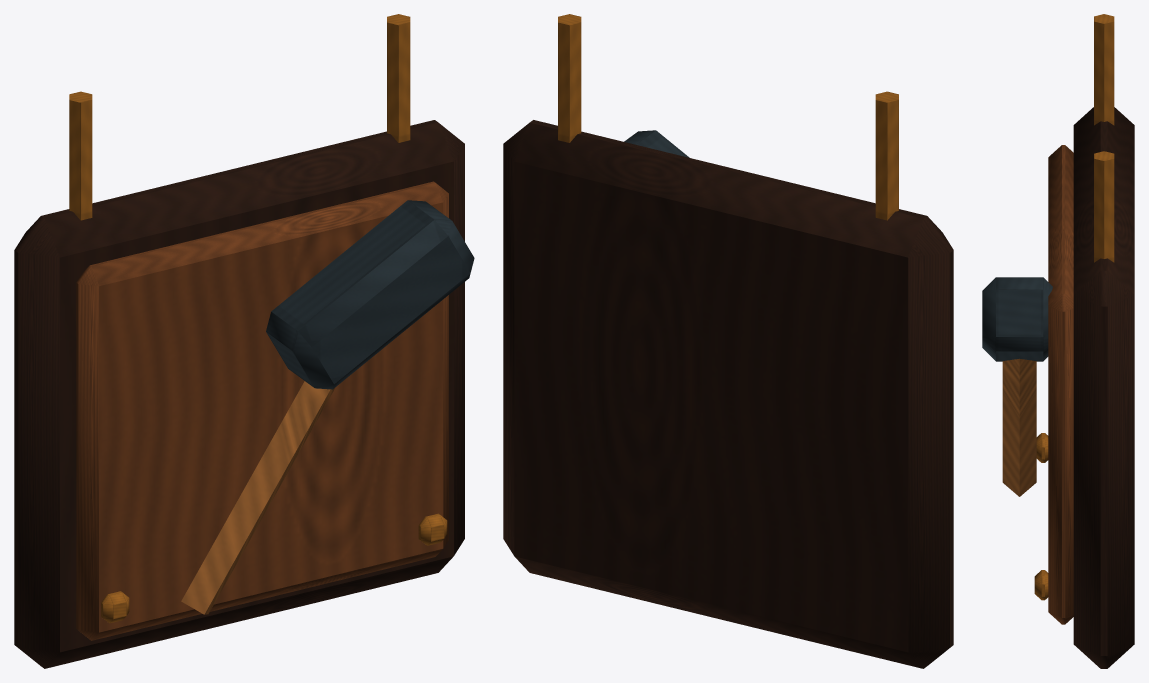
File: Placa_da_oficina_LOD0.fbx
3 renders of one model, left to right at view 1: azimuth 30°, elevation 25°; view 2: azimuth 150°, elevation 25°; view 3: azimuth 270°, elevation 25°, orthographic. The views are drawn at different scales.
Parts seen in each view (by area): view 1: Placa_da_oficina_LOD0; view 2: Placa_da_oficina_LOD0; view 3: Placa_da_oficina_LOD0.
Boxes of the visible parts, bbox=[...] form: Placa_da_oficina_LOD0: bbox=[14, 14, 474, 668]; Placa_da_oficina_LOD0: bbox=[503, 14, 953, 668]; Placa_da_oficina_LOD0: bbox=[982, 14, 1134, 668].
Bounding box in the file's own units: 135 × 162 × 45.
1 material, 1 textured.
